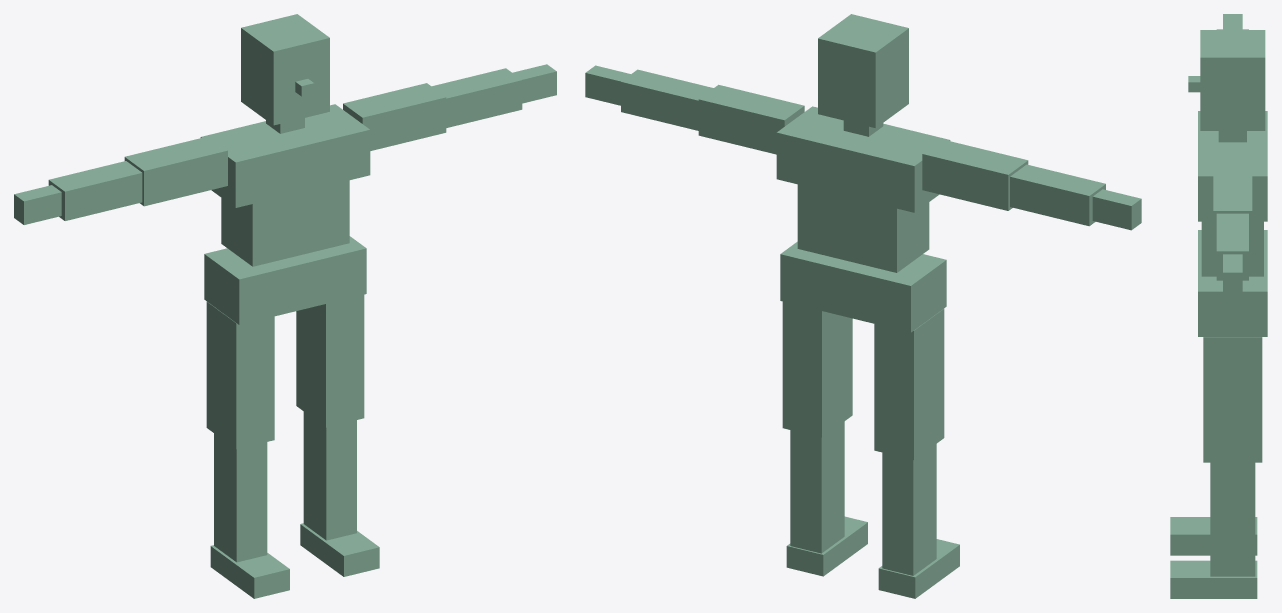
The model's file is simple_humanoid.glb.
3 renders of one model, left to right at view 1: azimuth 30°, elevation 25°; view 2: azimuth 150°, elevation 25°; view 3: azimuth 270°, elevation 25°, orthographic. The views are drawn at different scales.
Visible parts, largest first — view 1: body_Chest, body_Hips, body_UpperLeg_R, body_Head, body_UpperLeg_L, body_Spine, body_LowerLeg_L, body_LowerLeg_R, body_UpperArm_R, body_UpperArm_L, body_LowerArm_R, body_LowerArm_L (+4 smaller); view 2: body_Chest, body_Hips, body_UpperLeg_R, body_Head, body_UpperLeg_L, body_Spine, body_LowerLeg_L, body_LowerLeg_R, body_UpperArm_R, body_UpperArm_L, body_LowerArm_R, body_LowerArm_L (+4 smaller); view 3: body_UpperLeg_L, body_Head, body_LowerLeg_L, body_Chest, body_Hips, body_Foot_L, body_UpperArm_L, body_LowerArm_L, body_Foot_R, body_Spine, body_Hand_L, body_Neck (+2 smaller).
Boxes of the visible parts, left/top/right/bottom form: body_Chest: left=200, top=104, right=370, bottom=207; body_Hips: left=204, top=236, right=366, bottom=324; body_UpperLeg_R: left=206, top=301, right=274, bottom=449; body_Head: left=241, top=14, right=329, bottom=125; body_UpperLeg_L: left=296, top=294, right=364, bottom=427; body_Spine: left=221, top=180, right=349, bottom=266; body_LowerLeg_L: left=303, top=411, right=356, bottom=540; body_LowerLeg_R: left=214, top=433, right=267, bottom=562; body_UpperArm_R: left=124, top=136, right=227, bottom=206; body_UpperArm_L: left=343, top=83, right=446, bottom=150; body_LowerArm_R: left=48, top=161, right=142, bottom=220; body_LowerArm_L: left=432, top=68, right=522, bottom=127; body_Chest: left=776, top=106, right=950, bottom=212; body_Hips: left=780, top=241, right=946, bottom=332; body_UpperLeg_R: left=874, top=309, right=944, bottom=459; body_Head: left=818, top=14, right=908, bottom=128; body_UpperLeg_L: left=782, top=301, right=852, bottom=437; body_Spine: left=797, top=184, right=929, bottom=272; body_LowerLeg_L: left=790, top=421, right=844, bottom=553; body_LowerLeg_R: left=882, top=444, right=936, bottom=575; body_UpperArm_R: left=922, top=139, right=1028, bottom=210; body_UpperArm_L: left=698, top=84, right=804, bottom=154; body_LowerArm_R: left=1010, top=164, right=1105, bottom=226; body_LowerArm_L: left=621, top=69, right=713, bottom=130; body_UpperLeg_L: left=1203, top=337, right=1262, bottom=462; body_Head: left=1200, top=30, right=1265, bottom=130; body_LowerLeg_L: left=1210, top=462, right=1255, bottom=576; body_Chest: left=1198, top=111, right=1267, bottom=221; body_Hips: left=1198, top=230, right=1267, bottom=336; body_Foot_L: left=1170, top=560, right=1257, bottom=598; body_UpperArm_L: left=1213, top=170, right=1252, bottom=245; body_LowerArm_L: left=1216, top=213, right=1248, bottom=280; body_Foot_R: left=1170, top=517, right=1257, bottom=555; body_Spine: left=1201, top=221, right=1263, bottom=276; body_Hand_L: left=1223, top=254, right=1242, bottom=295; body_Neck: left=1218, top=131, right=1246, bottom=142.
Size of the model in its own units: 1.9 by 1.8 by 0.3024.
